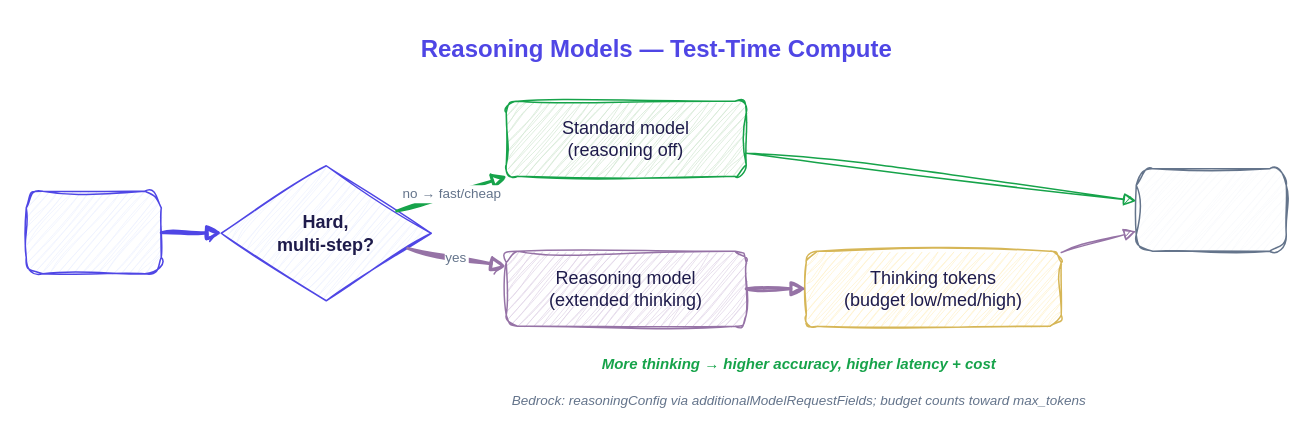
Some shapes in this 1313 by 441 pixel diagram are drawn without their labels. Here are the shapes that lost their labels. From the top down, the box of each, then its label:
(1135, 167, 1286, 251): Answer
(25, 190, 161, 274): Query
